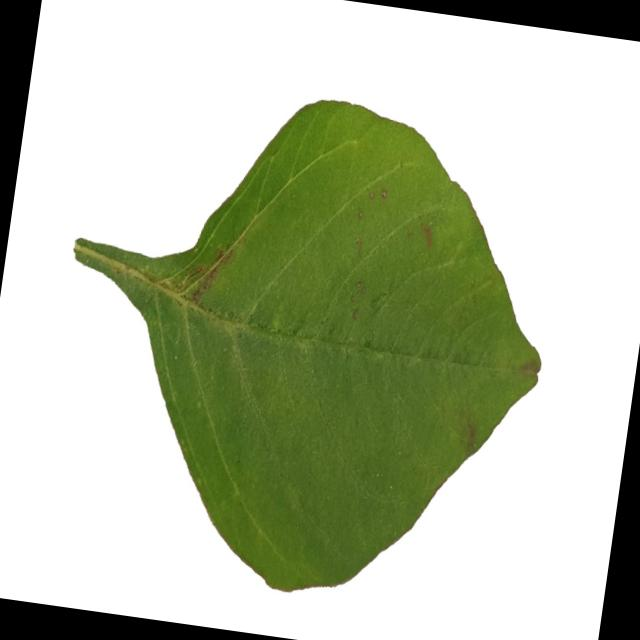Medicinal-Arive Dantu: (29, 66, 574, 624)
